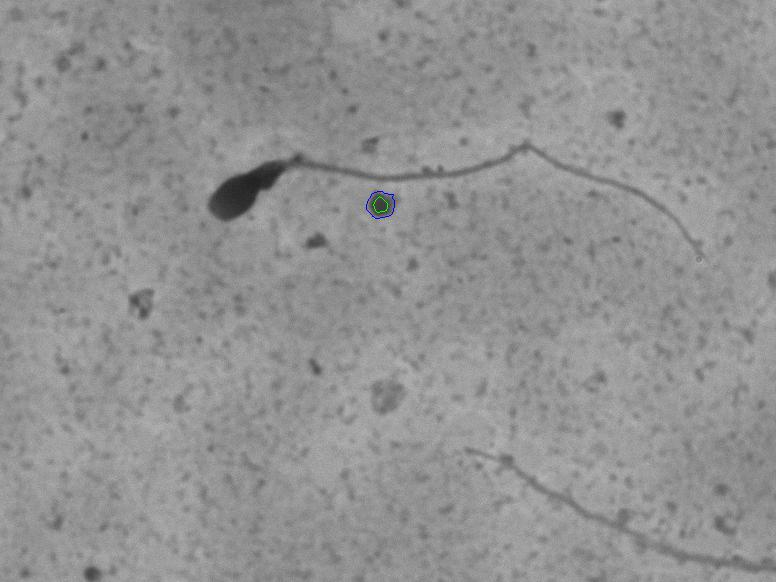Abnormal: (173, 114, 743, 267)
